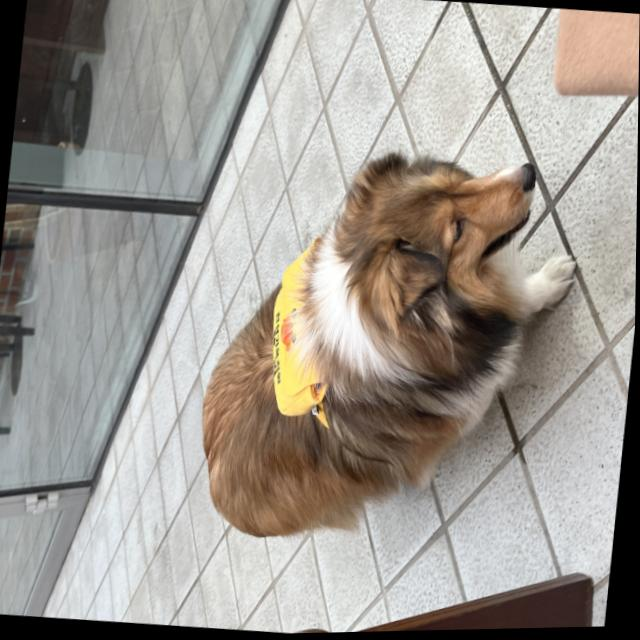dog-shetland_sheepdog: (344, 145, 540, 377)
